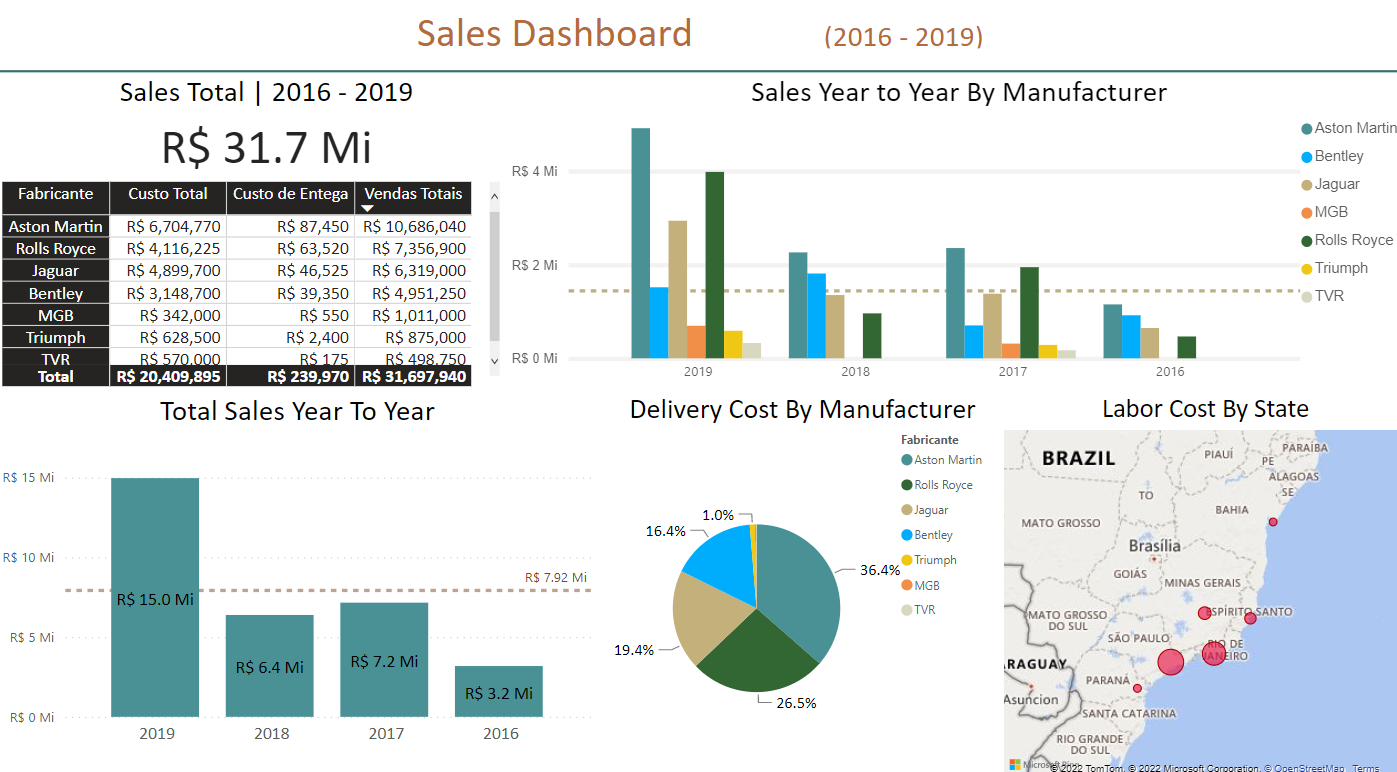

This screenshot's page, from the dashboard's own definition file:
{"tool":"powerbi","page":{"name":"Página 1","canvas":[1280,720],"ordinal":0},"visuals":[{"type":"clusteredColumnChart","title":"Total de Vendas Por Ano","fields":{"Category":["VendaCarros.Ano"],"Y":["Sum(VendaCarros.ValorVenda)"]},"box":[24.4,86.1,532.9,273.5],"z":0},{"type":"pieChart","title":"Custo Entrega Por Fabricante","fields":{"Y":["Sum(VendaCarros.CustoEntrega)"],"Category":["VendaCarros.Fabricante"]},"box":[24.4,359.6,615.6,352.6],"z":1000},{"type":"map","title":"Custo de Mão de Obra Por Estado","fields":{"Category":["VendaCarros.Estado"],"Size":["Sum(VendaCarros.CustoMaoDeObra)"]},"box":[647,359.6,610.9,352.6],"z":2000},{"type":"card","title":"Vendas Totais","fields":{"Values":["Sum(VendaCarros.ValorVenda)"]},"box":[592.3,86.1,166.4,238.5],"z":3000},{"type":"pivotTable","title":"Matriz de Vendas","fields":{"Rows":["VendaCarros.Fabricante"],"Values":["Sum(VendaCarros.CustoEntrega)","Sum(VendaCarros.ValorCusto)","Sum(VendaCarros.ValorVenda)"]},"box":[792.4,86.1,465.5,273.5],"z":4000},{"type":"textbox","box":[24.4,7,1170.6,61.7],"z":4001}]}

Visuals, with their boxes in screenshot pixels (x1, y1, x2, y2), scaled from the page's 1280x720 canvas onto the 1397x772 screenshot:
"Total de Vendas Por Ano" clusteredColumnChart: locate(27, 92, 608, 386)
"Custo Entrega Por Fabricante" pieChart: locate(27, 386, 698, 764)
"Custo de Mão de Obra Por Estado" map: locate(706, 386, 1373, 764)
"Vendas Totais" card: locate(646, 92, 828, 348)
"Matriz de Vendas" pivotTable: locate(865, 92, 1373, 386)
textbox: locate(27, 8, 1304, 74)
